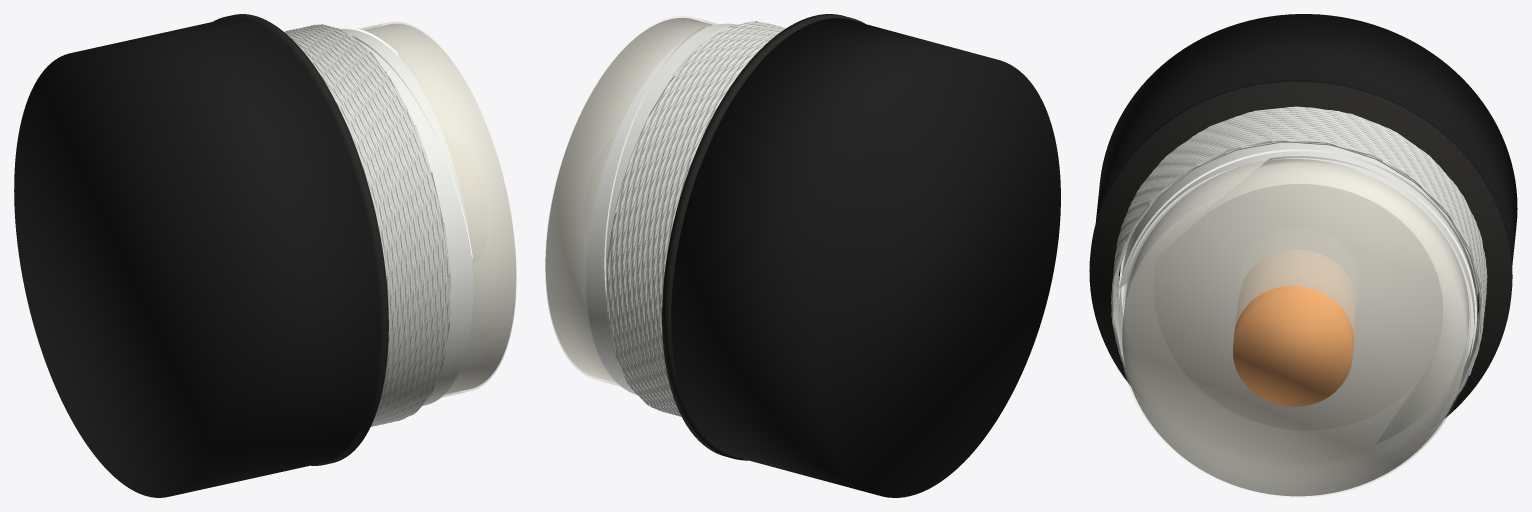
Rendered from rf-lmr1200.glb.
The picture shows the model from 3 angles, left to right: view 1: azimuth 30°, elevation 25°; view 2: azimuth 150°, elevation 25°; view 3: azimuth 270°, elevation 25°; orthographic projection. The views are drawn at different scales.
Parts seen in each view (by area): view 1: matte black pvc jacket body, smooth dielectric skin, gas injected foam dielectric, duobond foil sleeve, jacket cut lip, braid left hand carrier 14, braid left hand carrier 17, braid left hand carrier 11, braid left hand carrier 05, braid left hand carrier 08, braid left hand carrier 02, braid left hand carrier 20 (+18 smaller); view 2: matte black pvc jacket body, smooth dielectric skin, gas injected foam dielectric, duobond foil sleeve, jacket cut lip, braid left hand carrier 02, braid left hand carrier 23, braid left hand carrier 05, braid left hand carrier 20, braid left hand carrier 17, braid left hand carrier 11, braid left hand carrier 08 (+14 smaller); view 3: gas injected foam dielectric, matte black pvc jacket body, jacket cut lip, solid center conductor continuous, subtle foil wrap lap, smooth dielectric skin, duobond foil sleeve, braid left hand carrier 06, braid left hand carrier 09, braid left hand carrier 03, braid left hand carrier 24, braid left hand carrier 12 (+17 smaller).
Part boxes in pixels (x1,y1,x2,y2): matte black pvc jacket body: (14,18,379,497); smooth dielectric skin: (360,21,516,397); gas injected foam dielectric: (365,23,516,394); duobond foil sleeve: (342,28,473,405); jacket cut lip: (213,14,388,465); braid left hand carrier 14: (285,28,447,423); braid left hand carrier 17: (294,27,449,425); braid left hand carrier 11: (291,24,444,426); braid left hand carrier 05: (290,25,439,422); braid left hand carrier 08: (289,25,442,425); braid left hand carrier 02: (291,26,437,425); braid left hand carrier 20: (287,27,443,421); matte black pvc jacket body: (671,18,1060,497); smooth dielectric skin: (545,16,718,386); gas injected foam dielectric: (545,18,713,383); duobond foil sleeve: (585,23,736,395); jacket cut lip: (662,14,865,460); braid left hand carrier 02: (609,24,781,409); braid left hand carrier 23: (612,24,776,414); braid left hand carrier 05: (607,23,784,414); braid left hand carrier 20: (614,25,782,409); braid left hand carrier 17: (616,25,779,415); braid left hand carrier 11: (621,22,780,414); braid left hand carrier 08: (614,22,775,410); gas injected foam dielectric: (1122,160,1469,496); matte black pvc jacket body: (1095,14,1517,264); jacket cut lip: (1089,80,1512,417); solid center conductor continuous: (1233,250,1357,406); subtle foil wrap lap: (1119,149,1477,443); smooth dielectric skin: (1120,161,1470,497); duobond foil sleeve: (1118,142,1477,385); braid left hand carrier 06: (1112,111,1485,333); braid left hand carrier 09: (1113,111,1486,308); braid left hand carrier 03: (1113,109,1486,398); braid left hand carrier 24: (1114,108,1486,400); braid left hand carrier 12: (1112,113,1485,318).
Bounding box in the file's own units: 6.71 × 7.8 × 7.89.
